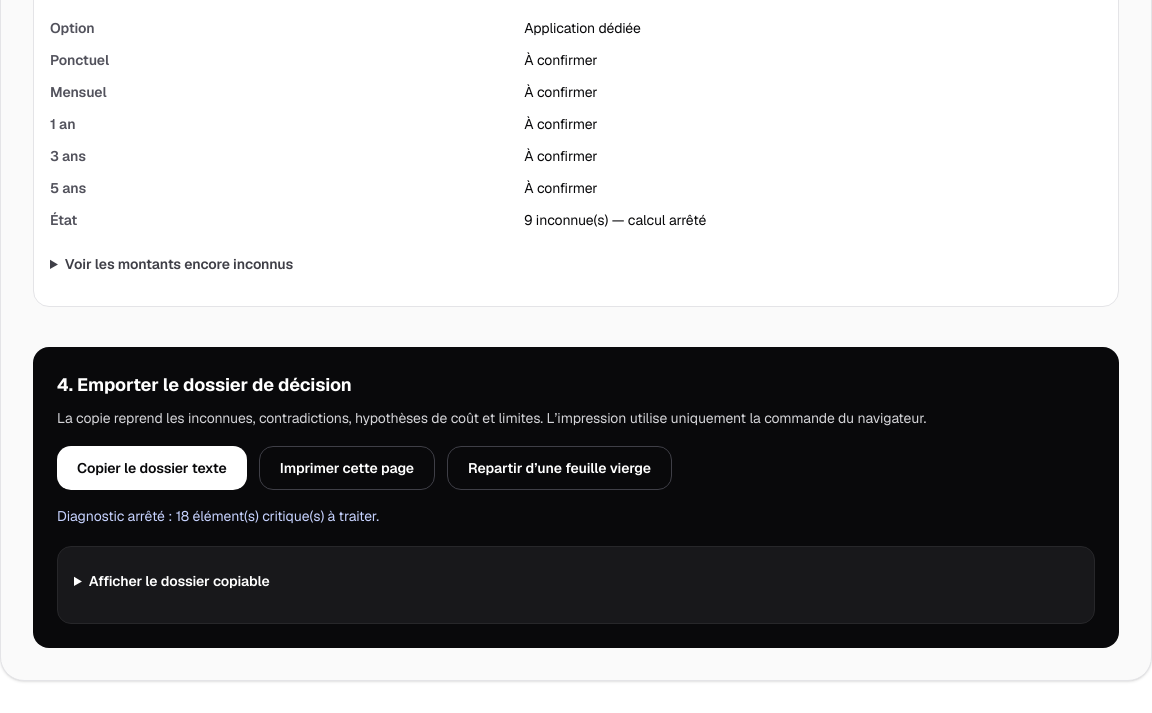
Scenario: PowerAppsDecisionWorkbench › copies the complete local dossier and announces success truthfully
(page scrolled)
What coordinates should you click on to do the following:
click the button "Copier le dossier texte"
I would click on:
 (152, 468)
Its box is [57,446,247,490].
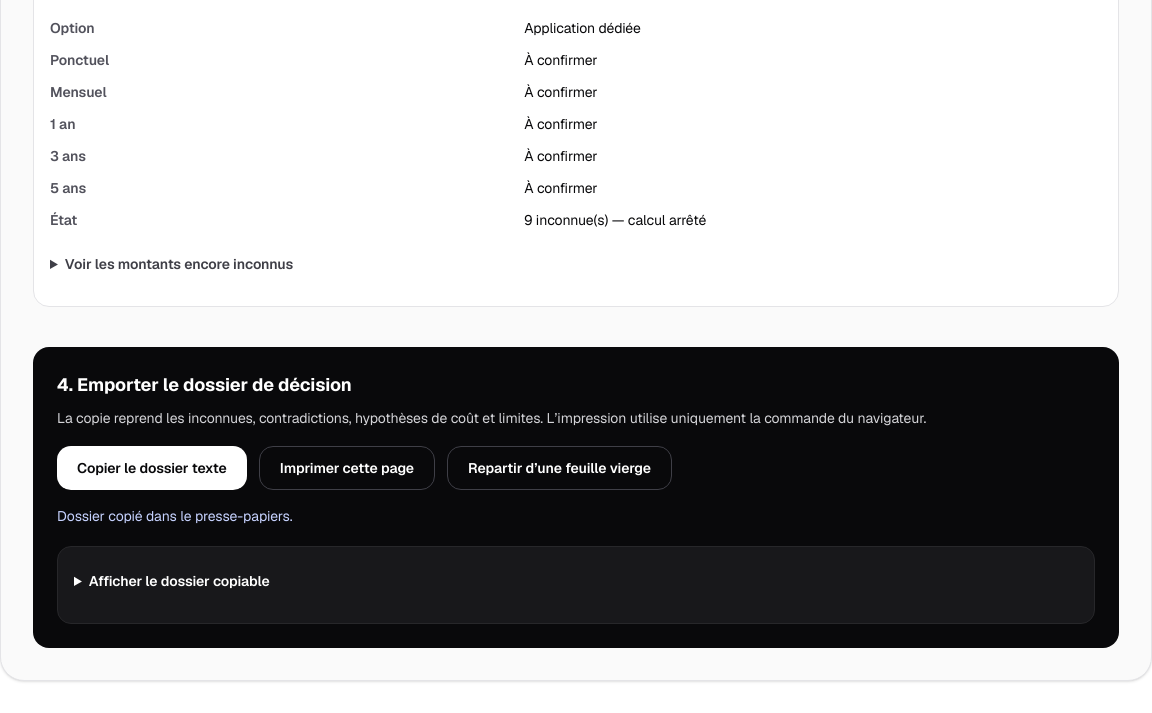
Now the message "Dossier copié dans le presse-papiers." is shown, box [57,507,292,525]
